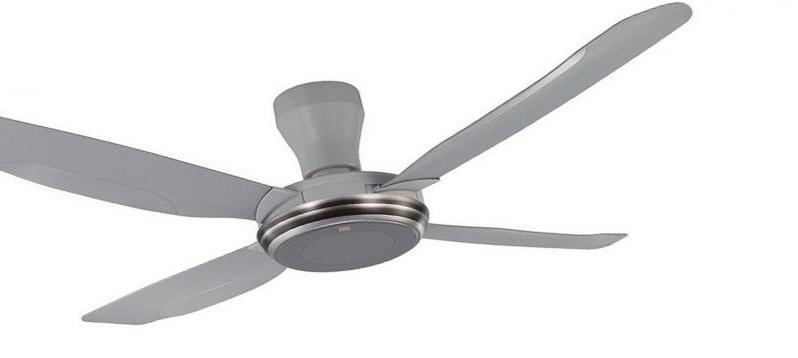fan: (0, 0, 707, 327)
